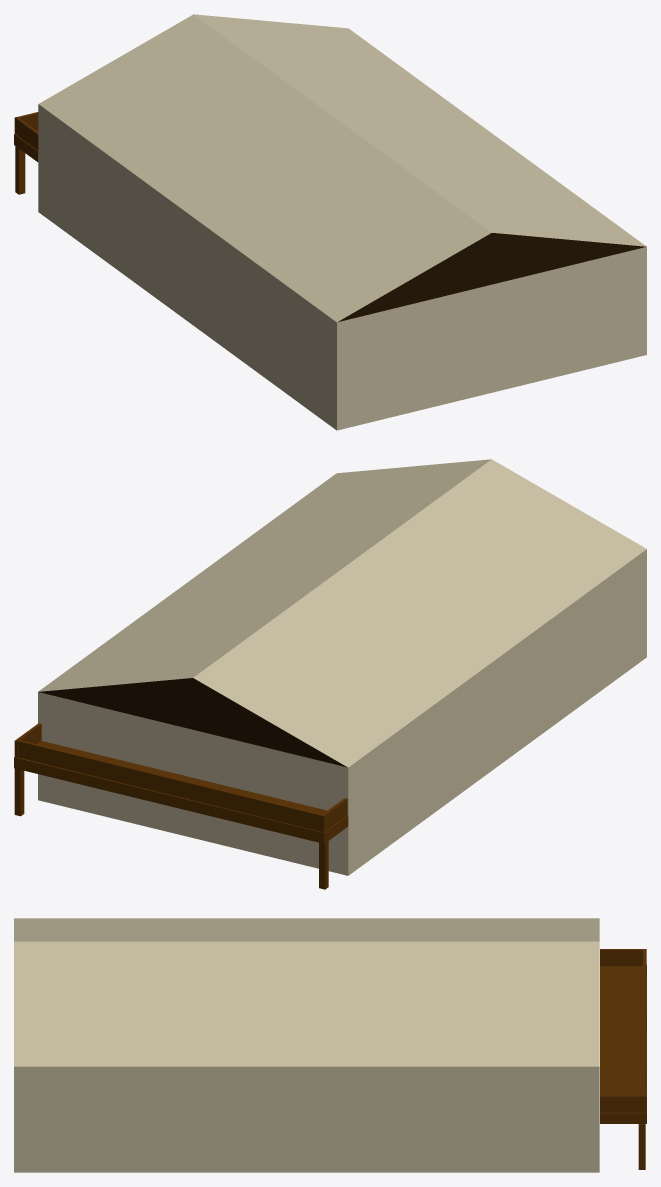
Rendered from Zelt_basic2.fbx.
3 views of the same model, one above another, from view 1: azimuth 30°, elevation 25°; view 2: azimuth 150°, elevation 25°; view 3: azimuth 270°, elevation 25° (orthographic). The views are drawn at different scales.
Parts seen in each view (by area): view 1: Cube.001; view 2: Cube.001, Cube.005, Cube.002; view 3: Cube.001, Cube.002, Cube.004, Cube.003, Cube.005.
Boxes of the visible parts, bbox=[...] form: Cube.001: bbox=[38, 14, 646, 430]; Cube.001: bbox=[38, 459, 646, 875]; Cube.005: bbox=[18, 740, 322, 831]; Cube.002: bbox=[14, 740, 348, 843]; Cube.001: bbox=[14, 918, 599, 1172]; Cube.002: bbox=[600, 965, 646, 1123]; Cube.004: bbox=[600, 1095, 646, 1112]; Cube.003: bbox=[600, 949, 646, 966]; Cube.005: bbox=[642, 950, 646, 1095].
Size of the model in its own units: 3003 by 1531 by 5405.
